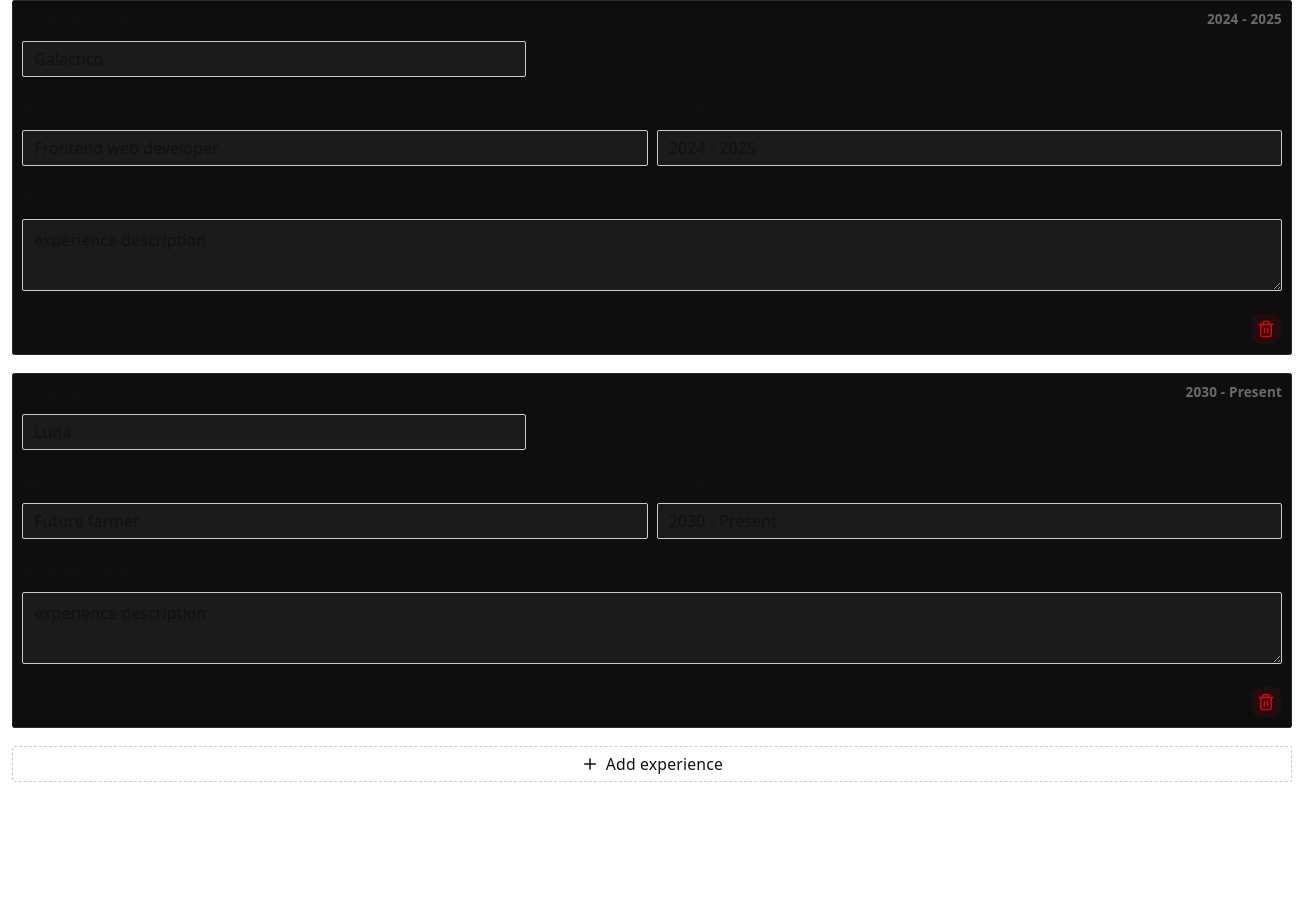
Experiences › clicking single delete button remove a experience
Expected: the number of elements with class "experience-field" is 2, left=12, top=0, right=1292, bottom=355; left=12, top=373, right=1292, bottom=728
Click the button named "remove" below "2024 - 2025" at (1266, 329), box left=1250, top=314, right=1282, bottom=345
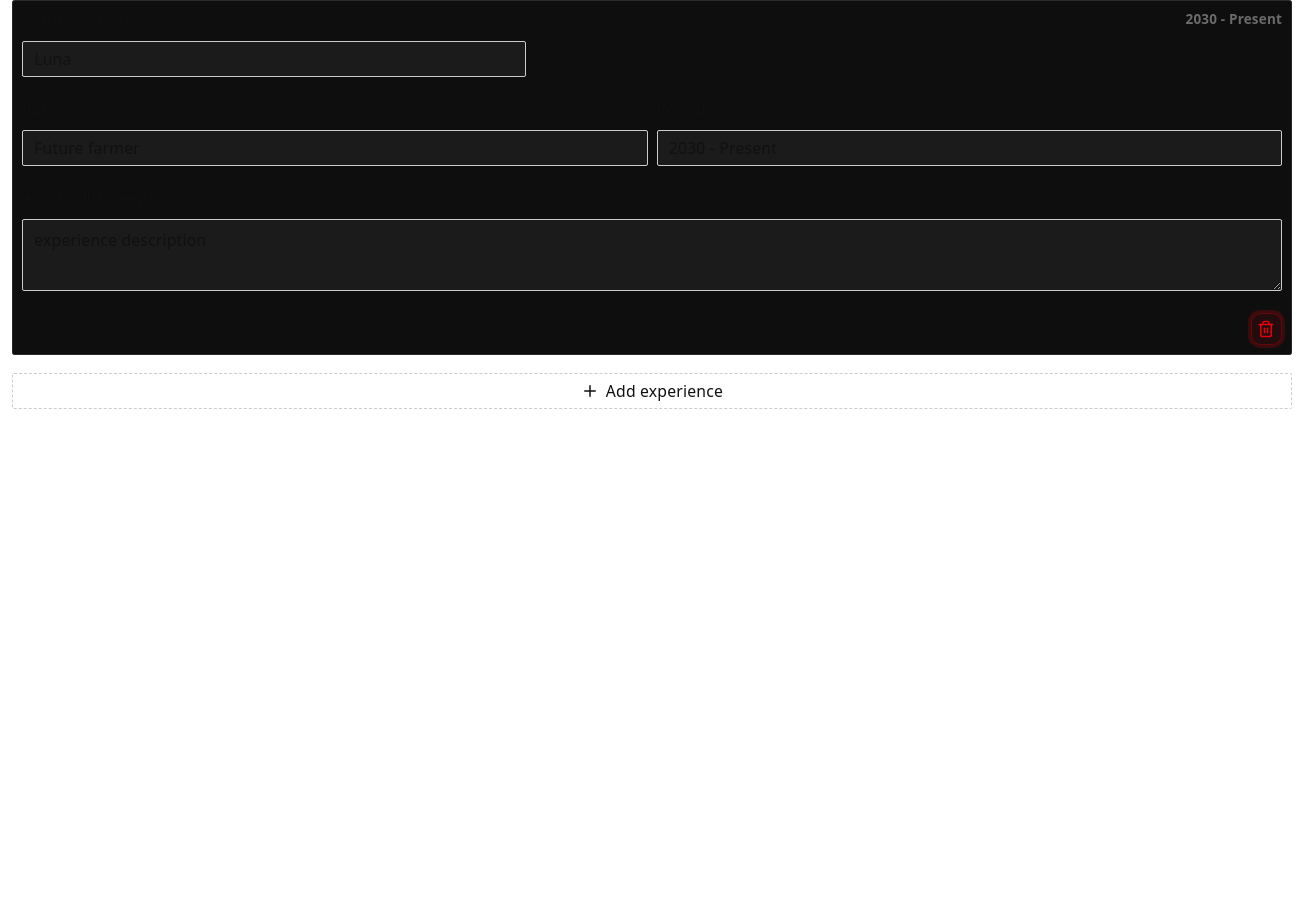
Expected: the number of elements with class "experience-field" is 1, left=12, top=0, right=1292, bottom=355
